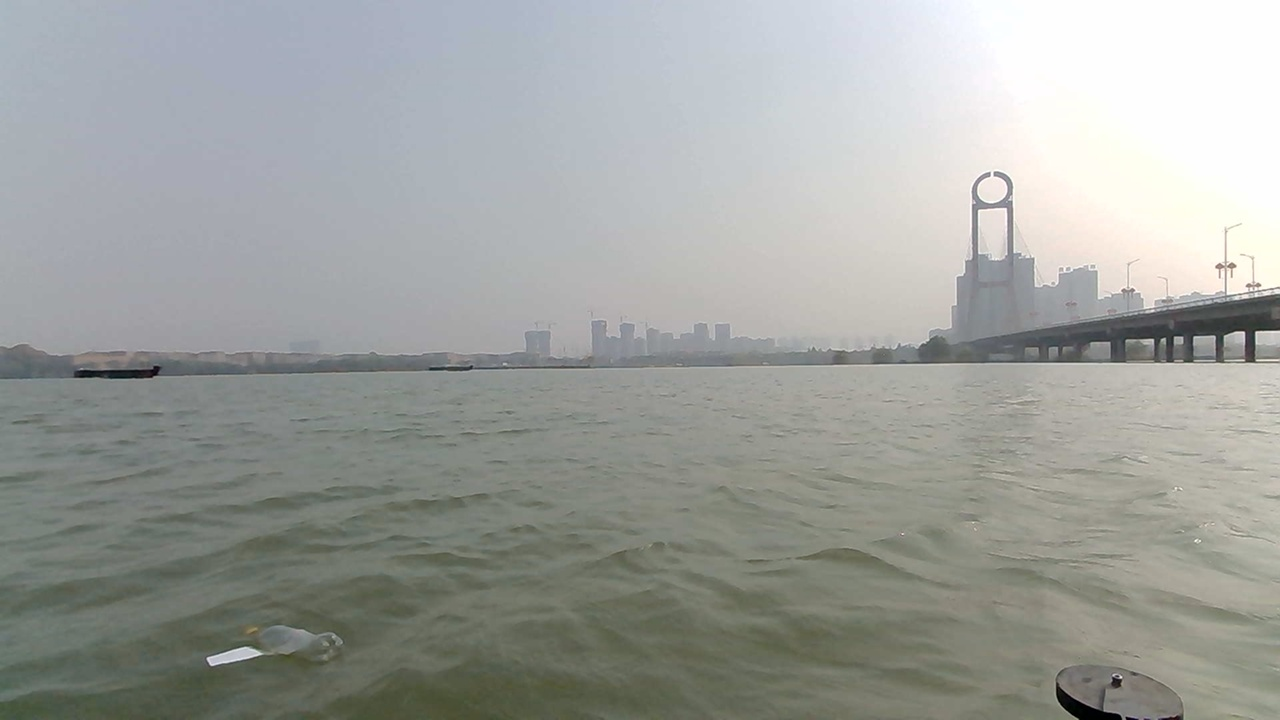bottle: (188, 616, 338, 684)
